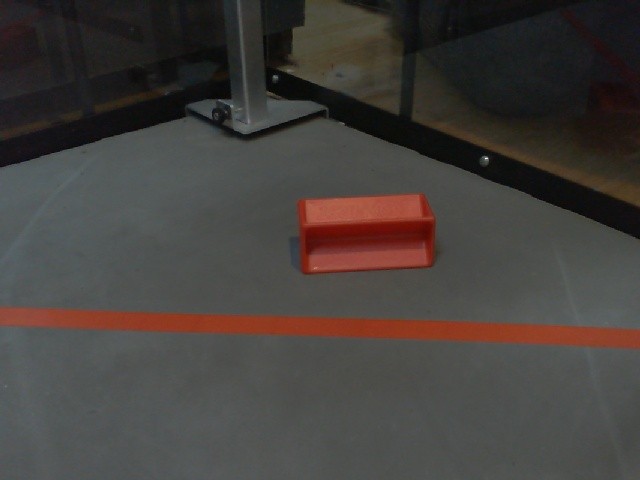RedSample: (294, 188, 438, 281)
